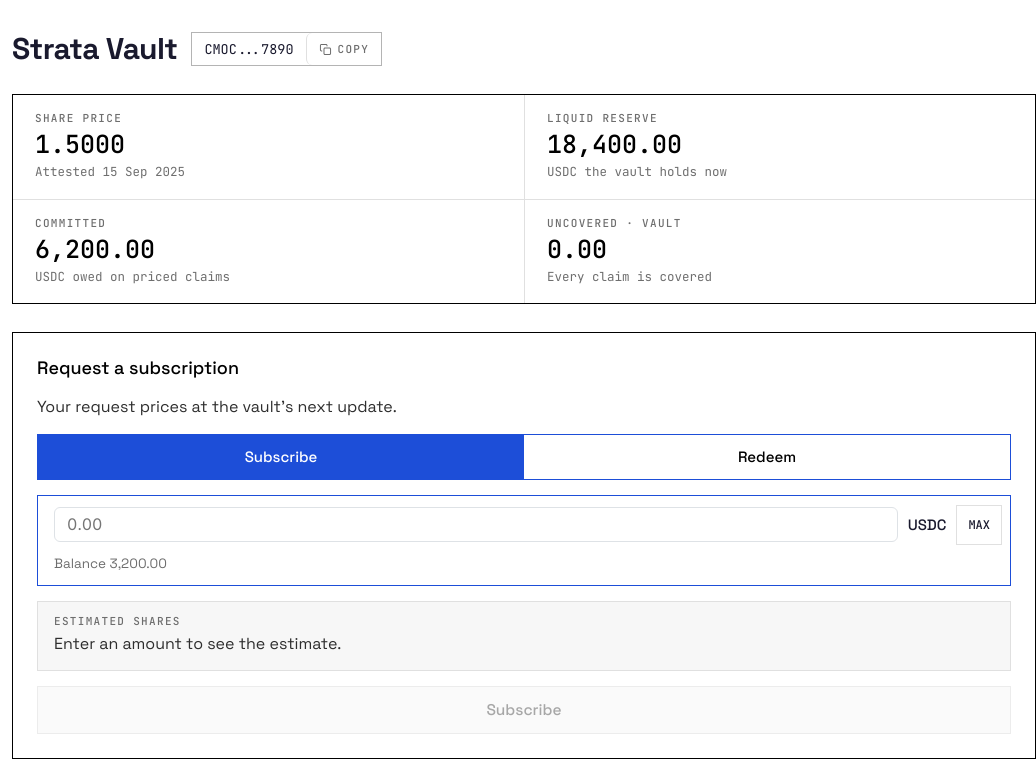
Test: VaultPreview › computes the subscribe estimate from the oracle's own attested price, not a fabricated one
In the field named "Amount to subscribe": (476, 524) [54,507,898,542], type "150"
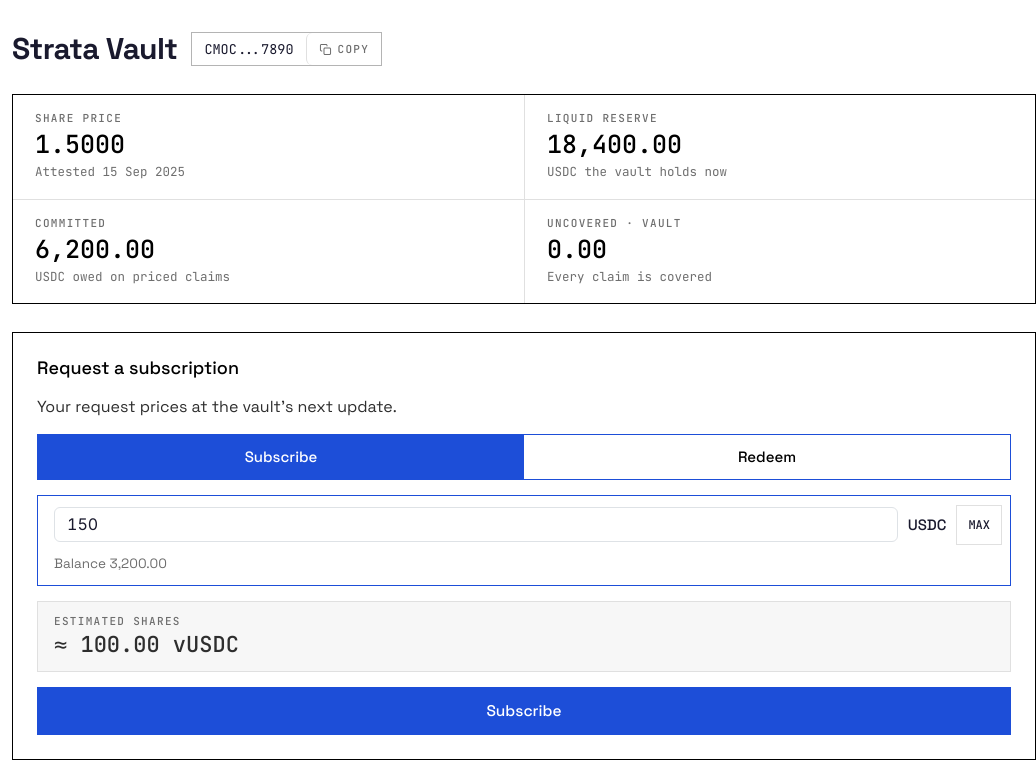
Result: the text "≈ 100.00 vUSDC" is shown at [54,630,239,659]
